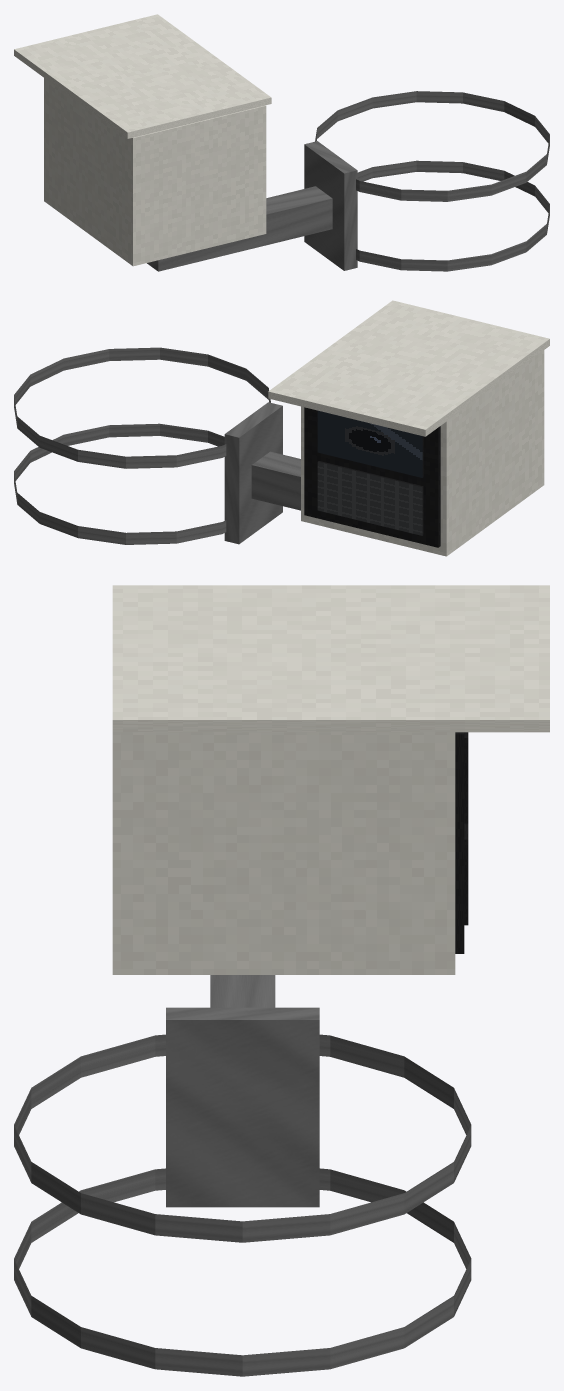
The model's file is speed_camera_side_right.obj.
The picture shows the model from 3 angles, top to bottom: view 1: azimuth 30°, elevation 25°; view 2: azimuth 150°, elevation 25°; view 3: azimuth 270°, elevation 25°; orthographic projection. The views are drawn at different scales.
Visible parts, largest first — view 1: speed_camera_side_right; view 2: speed_camera_side_right; view 3: speed_camera_side_right.
Part boxes in pixels (x1,y1,x2,y2): speed_camera_side_right: [14, 14, 549, 271]; speed_camera_side_right: [14, 300, 549, 556]; speed_camera_side_right: [14, 585, 549, 1376].
Bounding box in the file's own units: 1.66 × 0.735 × 0.907.
